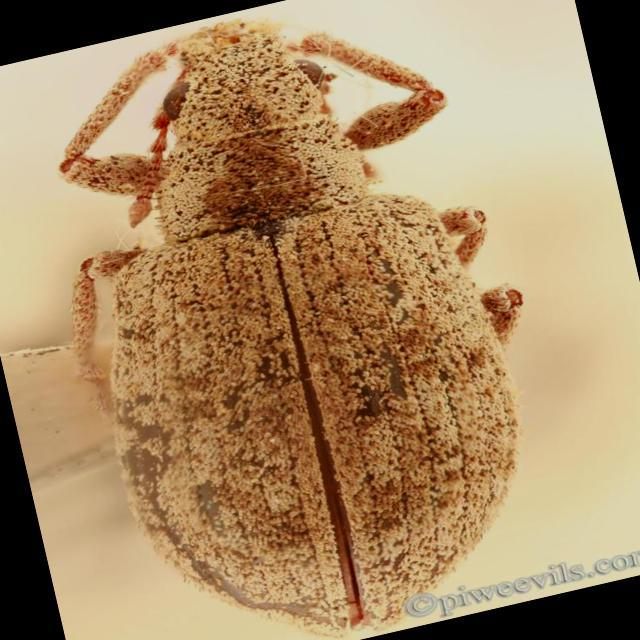ricebug: (60, 21, 521, 630)
